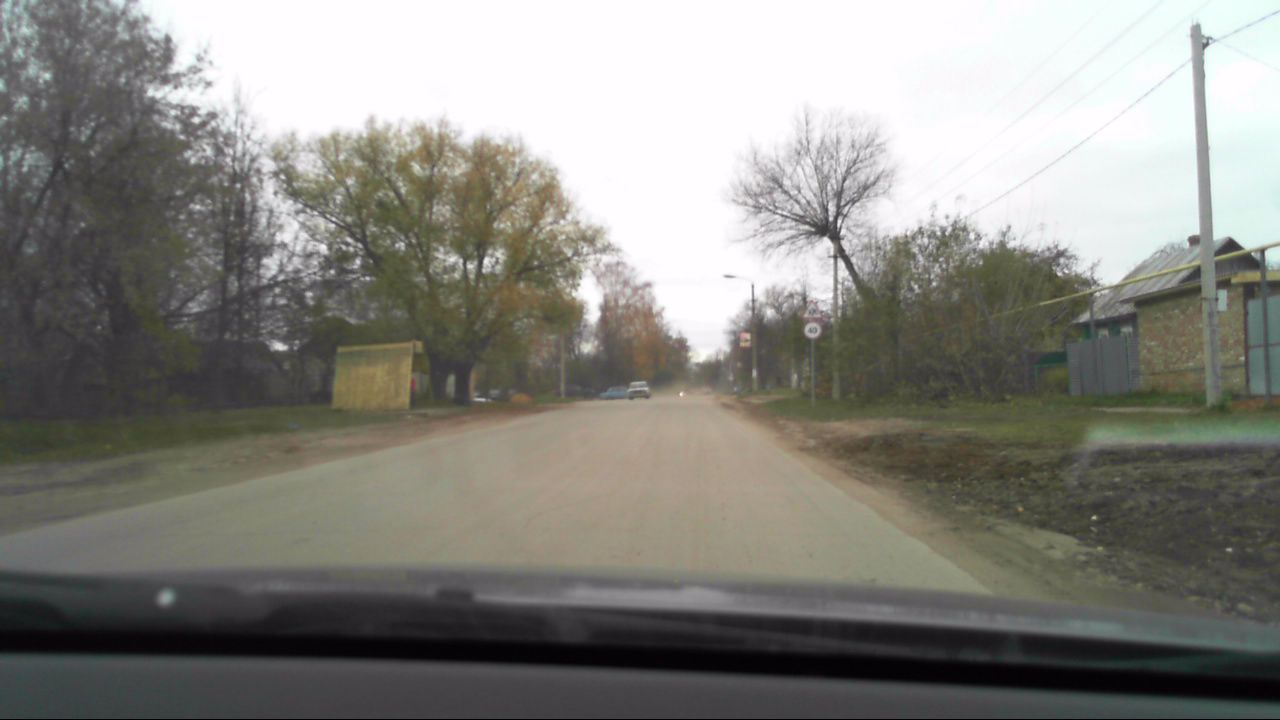speed_warning_40: (803, 321, 822, 337)
